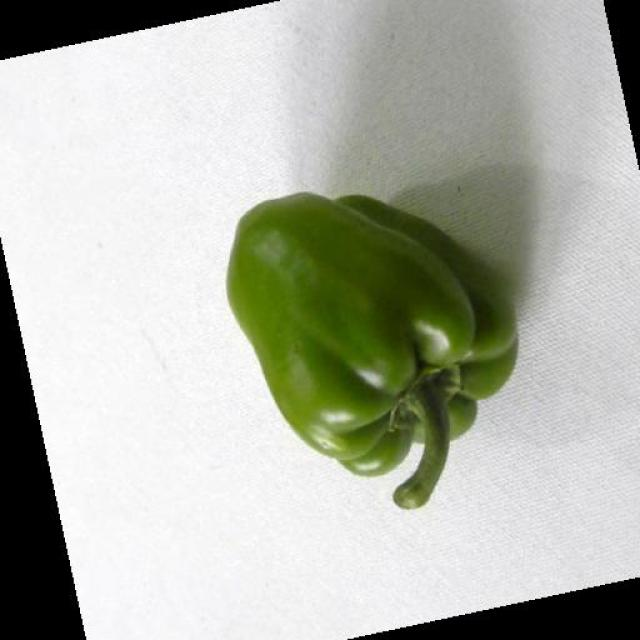Fresh_Capsicum: (212, 199, 527, 502)
